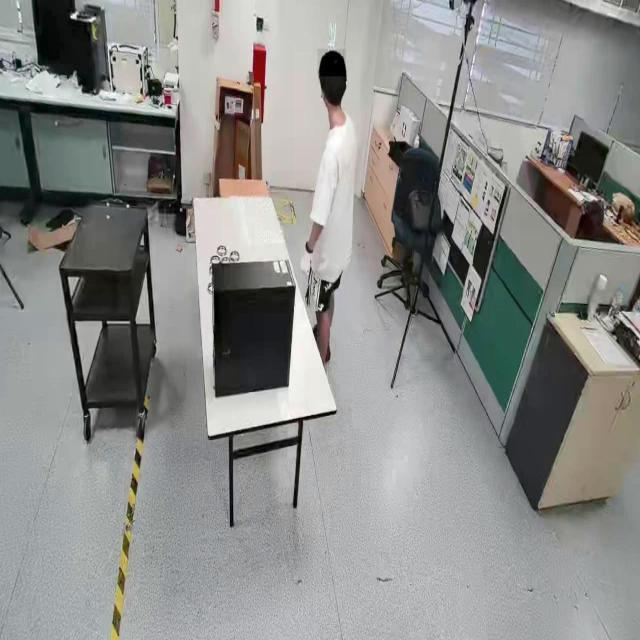hand_glove: (300, 236, 314, 278)
head_nohelmet: (318, 49, 347, 77)
person: (294, 51, 361, 369)
